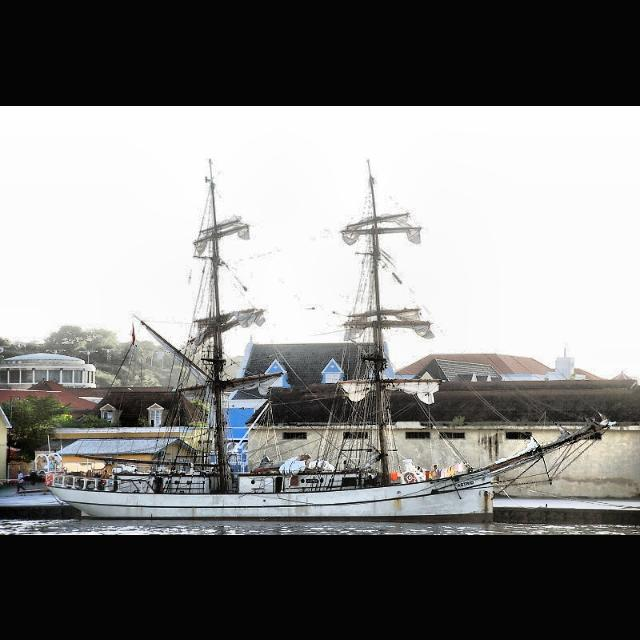sailing_vessel: (46, 158, 618, 526)
